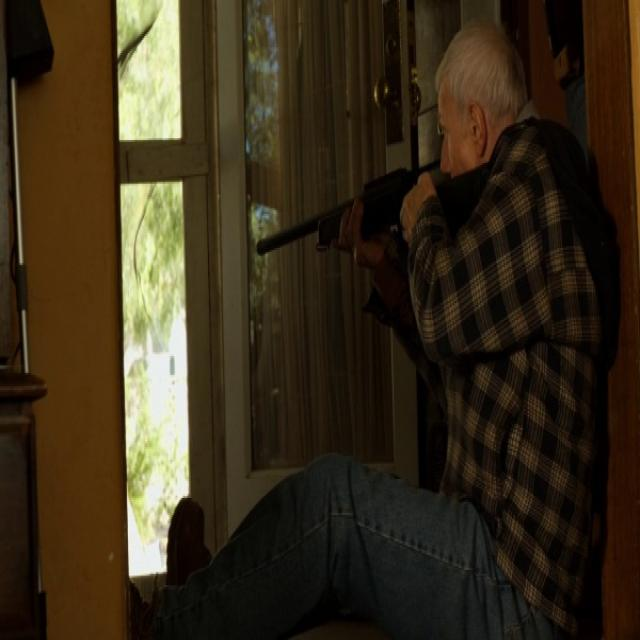rifle: (253, 158, 440, 310)
